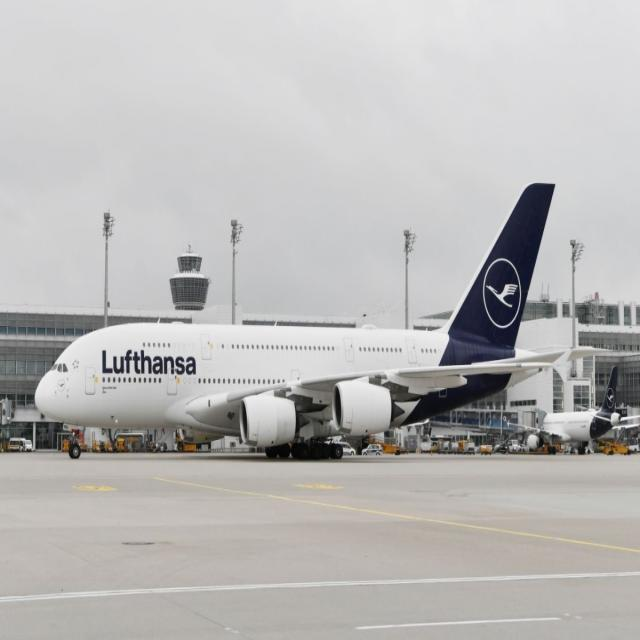A380: (35, 189, 595, 442)
